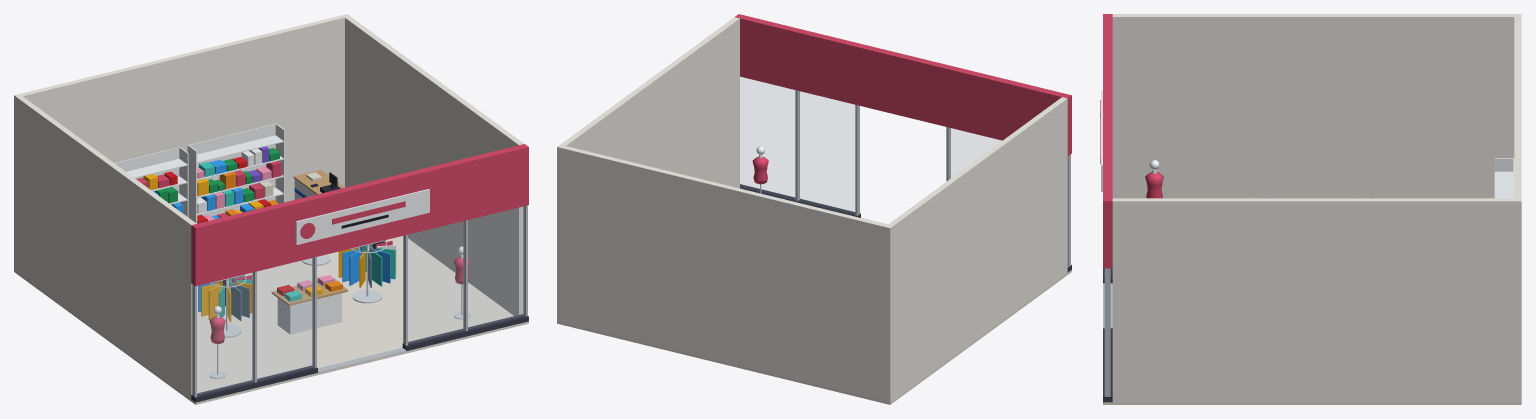
The model's file is mal-003.glb.
The picture shows the model from 3 angles, left to right: view 1: azimuth 30°, elevation 25°; view 2: azimuth 150°, elevation 25°; view 3: azimuth 270°, elevation 25°; orthographic projection. The views are drawn at different scales.
Visible parts, largest first — view 1: mall_wall, glass_clear, mall_floor, brand_fashion, white, stainless, dark_steel, accent_amber, plastic_blue, chrome, accent_teal, oak (+5 smaller); view 2: mall_wall, brand_fashion, glass_clear, stainless, mall_floor, dark_steel; view 3: mall_wall, brand_fashion, mall_floor, white, stainless, dark_steel.
Boxes of the visible parts, x1,y1,x2,y2 form: mall_wall: (14, 14, 524, 398); glass_clear: (197, 207, 523, 394); mall_floor: (14, 236, 528, 404); brand_fashion: (136, 144, 528, 343); white: (114, 123, 463, 334); stainless: (192, 205, 527, 397); dark_steel: (191, 314, 528, 402); accent_amber: (143, 174, 365, 322); plastic_blue: (153, 159, 390, 312); chrome: (209, 240, 470, 378); accent_teal: (199, 162, 395, 317); oak: (271, 169, 347, 305); mall_wall: (557, 17, 1067, 402); brand_fashion: (735, 14, 1071, 184); glass_clear: (740, 77, 1000, 213); stainless: (795, 90, 1070, 267); mall_floor: (557, 270, 1071, 404); dark_steel: (740, 184, 1071, 272); mall_wall: (1112, 14, 1521, 402); brand_fashion: (1100, 14, 1371, 268); mall_floor: (1103, 402, 1521, 404); white: (1101, 90, 1514, 198); stainless: (1103, 268, 1112, 401); dark_steel: (1103, 268, 1112, 402).
Size of the model in its own units: 9 by 4.56 by 8.55.
